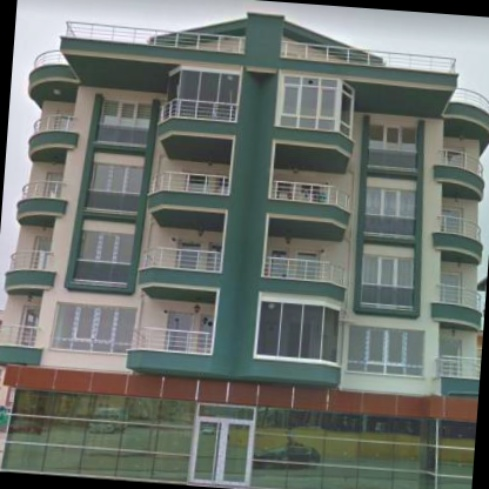door: (190, 418, 254, 487), (164, 312, 194, 351), (17, 305, 42, 347), (440, 273, 462, 303), (443, 207, 464, 234), (33, 237, 51, 268), (180, 242, 202, 267), (45, 173, 63, 198), (271, 248, 287, 275), (440, 339, 462, 357), (445, 147, 463, 168), (188, 173, 207, 192), (55, 111, 73, 131)
